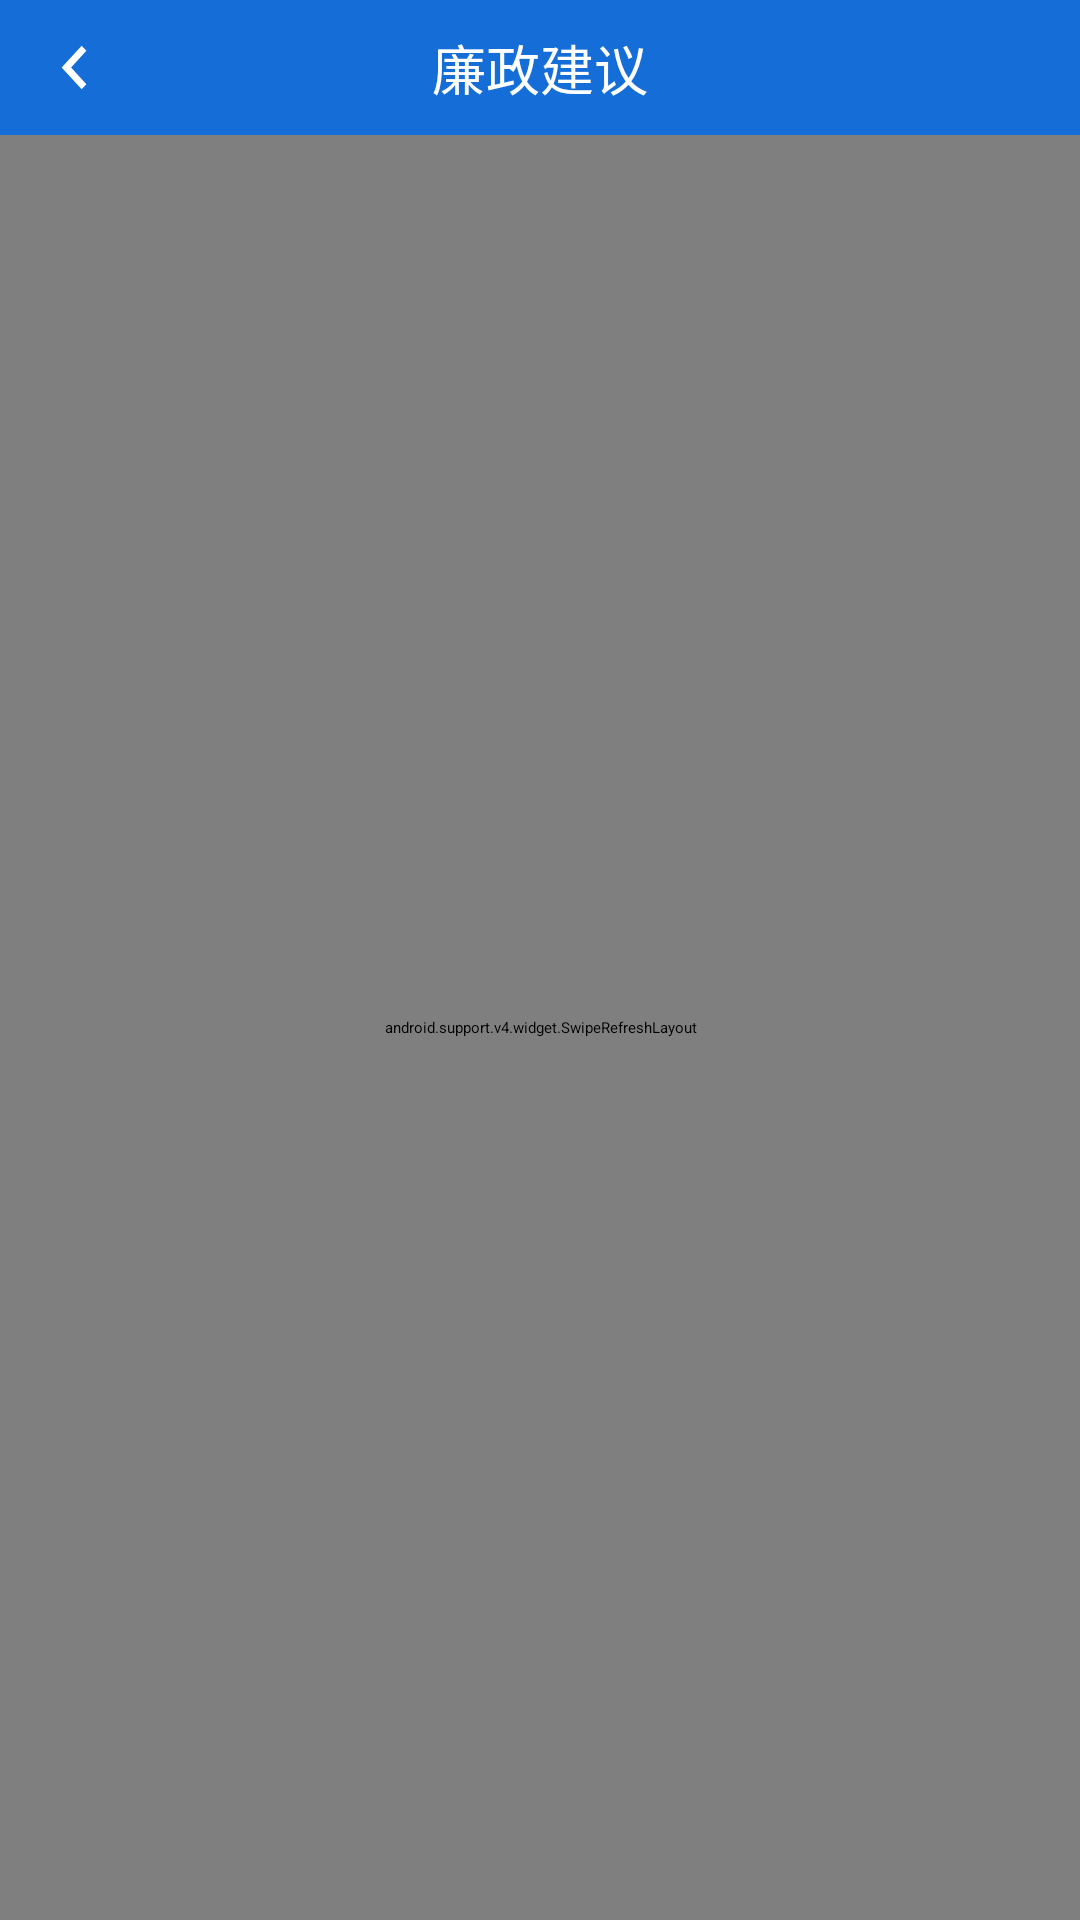

Where to tap for icons on this 1080x1920 app screen, as (x=x, y=y):
left: (x=74, y=67)
